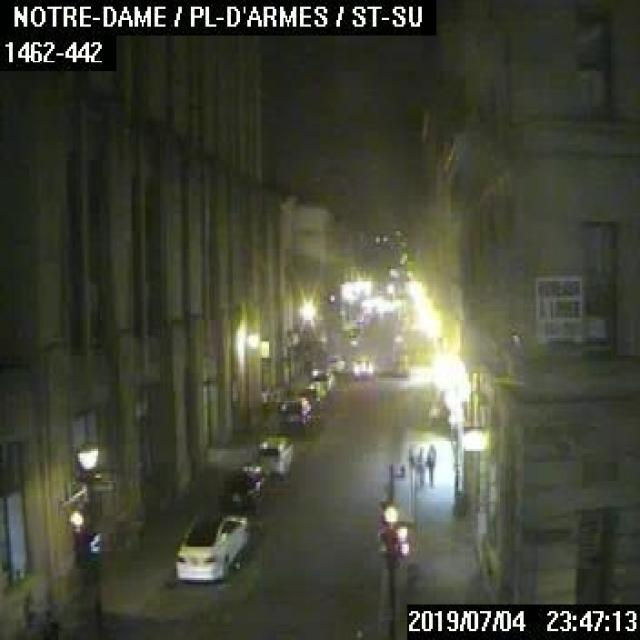pedestrian: (406, 440, 416, 498), (414, 444, 424, 488), (425, 444, 435, 487)
vehicle: (173, 509, 249, 580), (217, 463, 267, 506), (254, 432, 296, 476), (274, 394, 314, 432), (299, 372, 332, 401), (350, 351, 376, 376), (324, 352, 344, 371), (346, 331, 360, 344)
